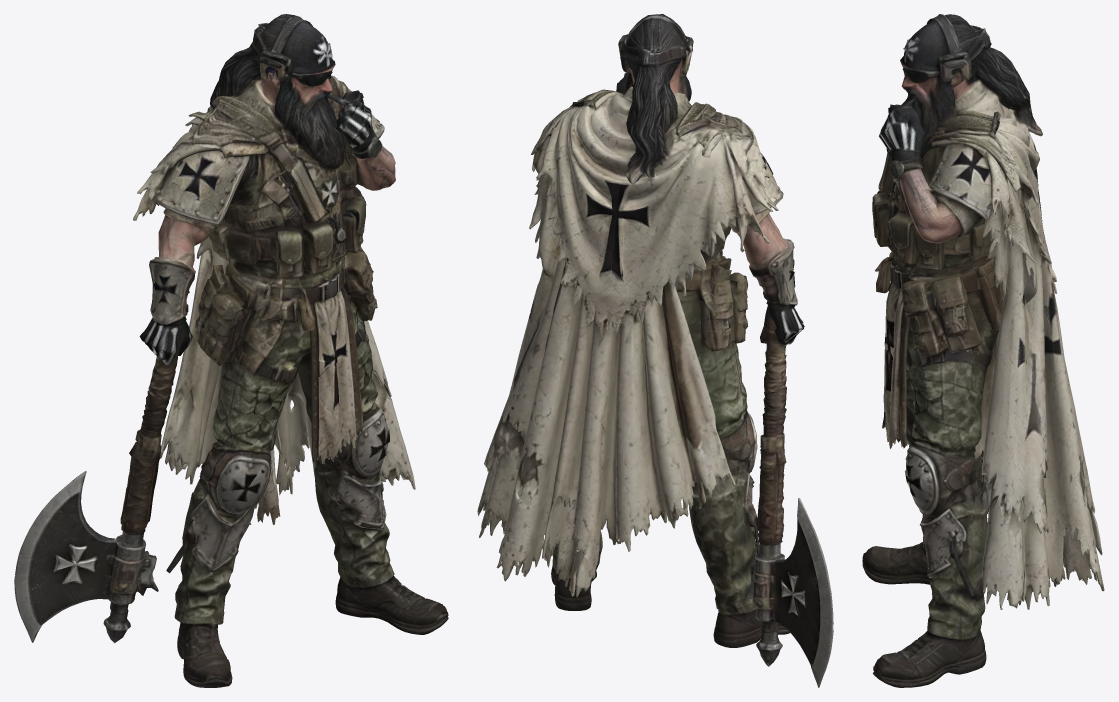
File: goon-axe.glb
3 views of the same model, side by side, from view 1: azimuth 30°, elevation 25°; view 2: azimuth 150°, elevation 25°; view 3: azimuth 270°, elevation 25° (orthographic). The views are drawn at different scales.
Visible parts, largest first — view 1: tripo_node_db6c3d10-e554-4202-bef4-b2dc1d0764cc; view 2: tripo_node_db6c3d10-e554-4202-bef4-b2dc1d0764cc; view 3: tripo_node_db6c3d10-e554-4202-bef4-b2dc1d0764cc.
Boxes of the visible parts, left/top/right/bottom form: tripo_node_db6c3d10-e554-4202-bef4-b2dc1d0764cc: left=14, top=14, right=448, bottom=687; tripo_node_db6c3d10-e554-4202-bef4-b2dc1d0764cc: left=477, top=14, right=833, bottom=687; tripo_node_db6c3d10-e554-4202-bef4-b2dc1d0764cc: left=862, top=14, right=1104, bottom=687.
Bounding box in the file's own units: 0.6298 × 0.9803 × 0.3502.
1 material, 1 textured.
